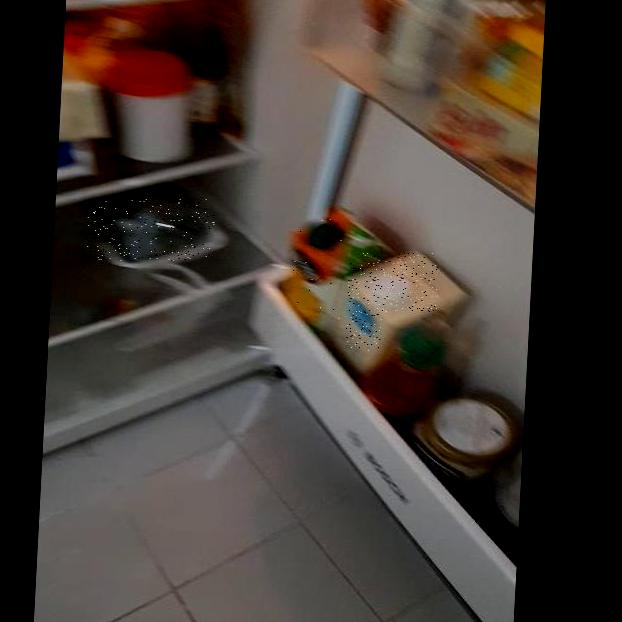broccoli: (84, 199, 216, 261)
juice: (291, 219, 347, 319)
milk: (345, 253, 440, 351)
sauce: (377, 312, 454, 410)
